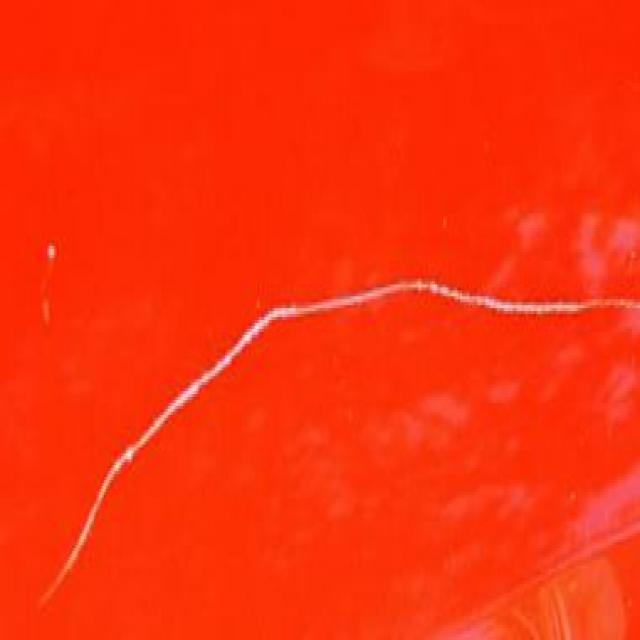scratch: (34, 266, 637, 640)
